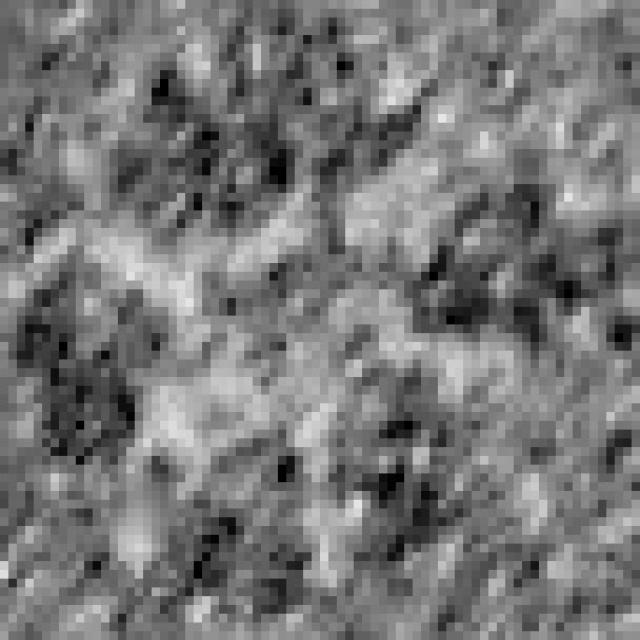inner: (183, 198, 412, 436)
lobe: (324, 366, 516, 614), (207, 7, 431, 200), (404, 179, 640, 345), (98, 54, 281, 259), (7, 247, 171, 470), (154, 432, 316, 622)
outer: (0, 0, 640, 640)
